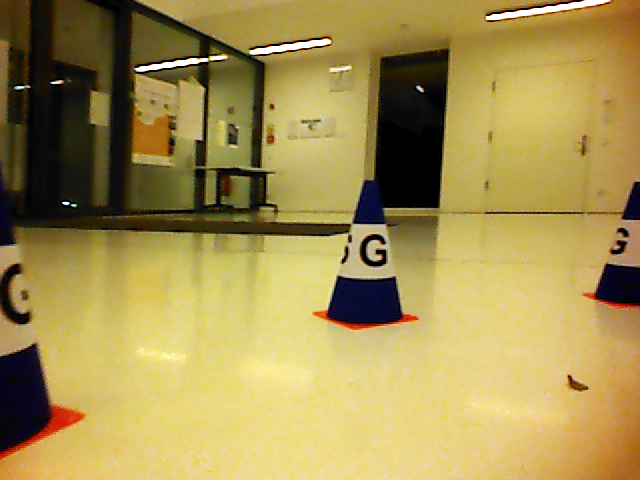bluecone: (326, 180, 404, 325), (598, 181, 640, 306)
